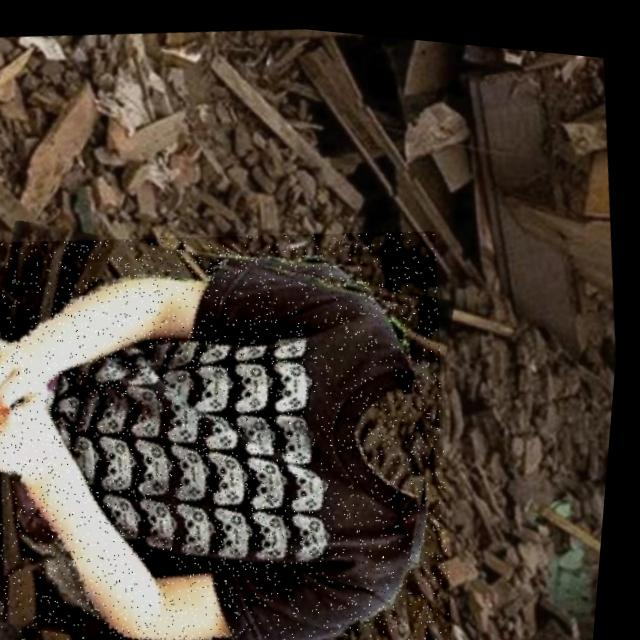Person in Rubble: (0, 187, 490, 640)
